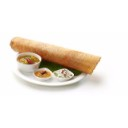dosa: (11, 35, 102, 74)
